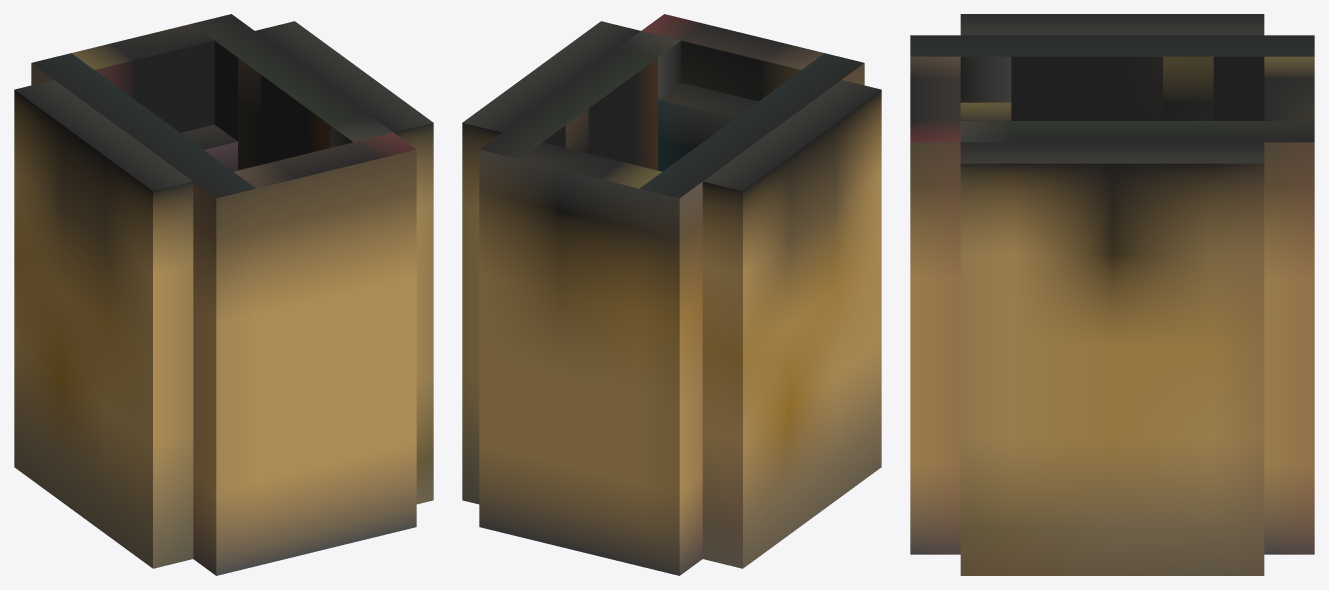
File: BinYellow_00.obj
3 renders of one model, left to right at view 1: azimuth 30°, elevation 25°; view 2: azimuth 150°, elevation 25°; view 3: azimuth 270°, elevation 25°, orthographic. The views are drawn at different scales.
Parts seen in each view (by area): view 1: BinYellow_00; view 2: BinYellow_00; view 3: BinYellow_00.
Boxes of the visible parts, x1=… form: BinYellow_00: x1=14, y1=14, x2=433, y2=575; BinYellow_00: x1=462, y1=14, x2=881, y2=575; BinYellow_00: x1=910, y1=14, x2=1314, y2=575.
Size of the model in its own units: 0.35 by 0.45 by 0.4.
